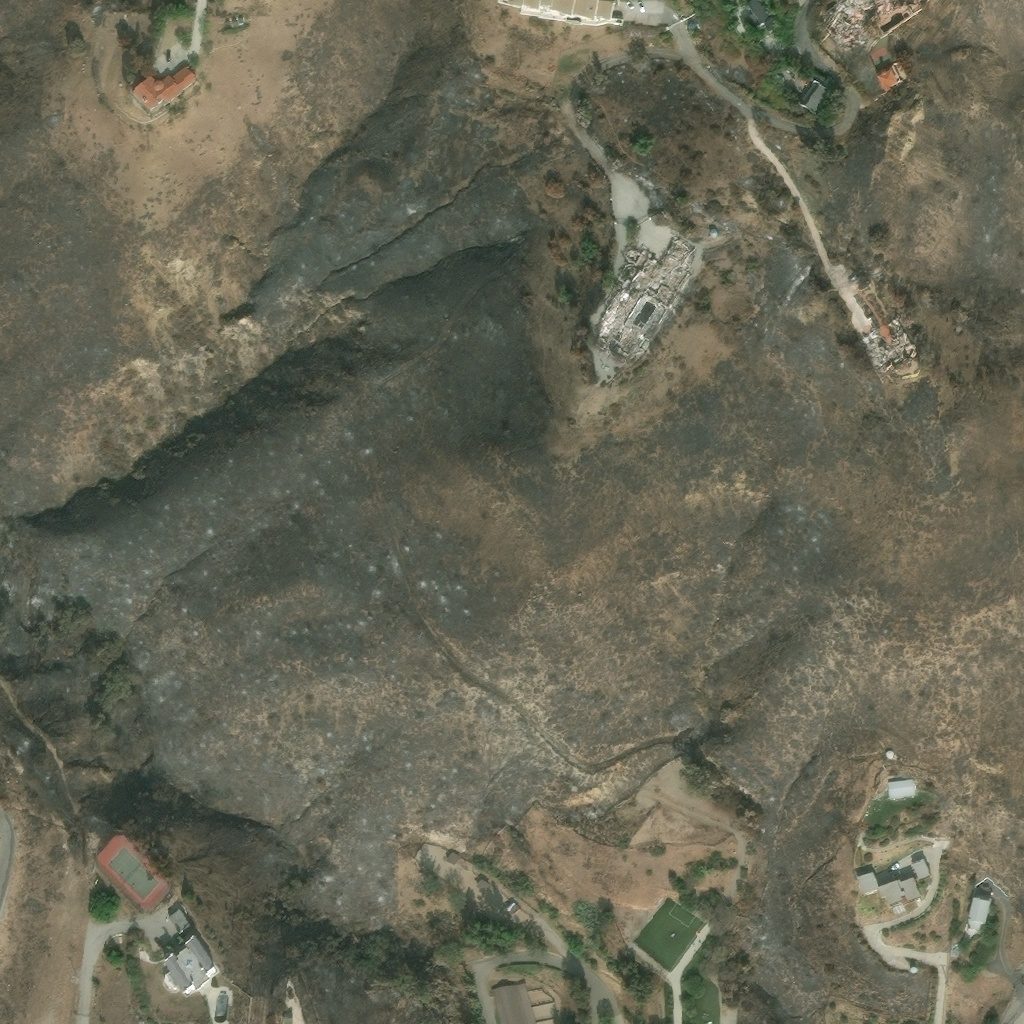0 no-damage: (496, 0, 615, 27), (165, 937, 216, 998), (132, 66, 195, 112), (855, 871, 919, 907), (492, 982, 536, 1023), (798, 80, 830, 114), (967, 893, 991, 933), (876, 64, 901, 93), (747, 0, 771, 27), (887, 779, 914, 800), (168, 910, 190, 934), (910, 859, 930, 881), (764, 14, 781, 33), (869, 46, 888, 61), (446, 850, 459, 865), (476, 878, 489, 891), (507, 901, 519, 915), (754, 183, 766, 193), (235, 14, 244, 27), (228, 17, 238, 28), (884, 749, 894, 759), (949, 946, 958, 957), (708, 229, 718, 238), (909, 967, 916, 974)
3 destroyed: (588, 266, 679, 359), (622, 236, 694, 295), (860, 320, 917, 373), (826, 8, 858, 38), (840, 0, 878, 21), (878, 0, 930, 13), (885, 344, 907, 365)
